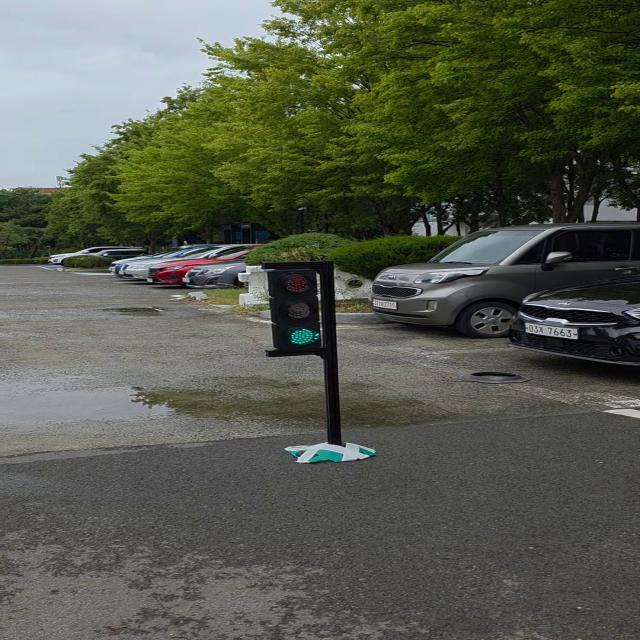green: (267, 263, 333, 357)
